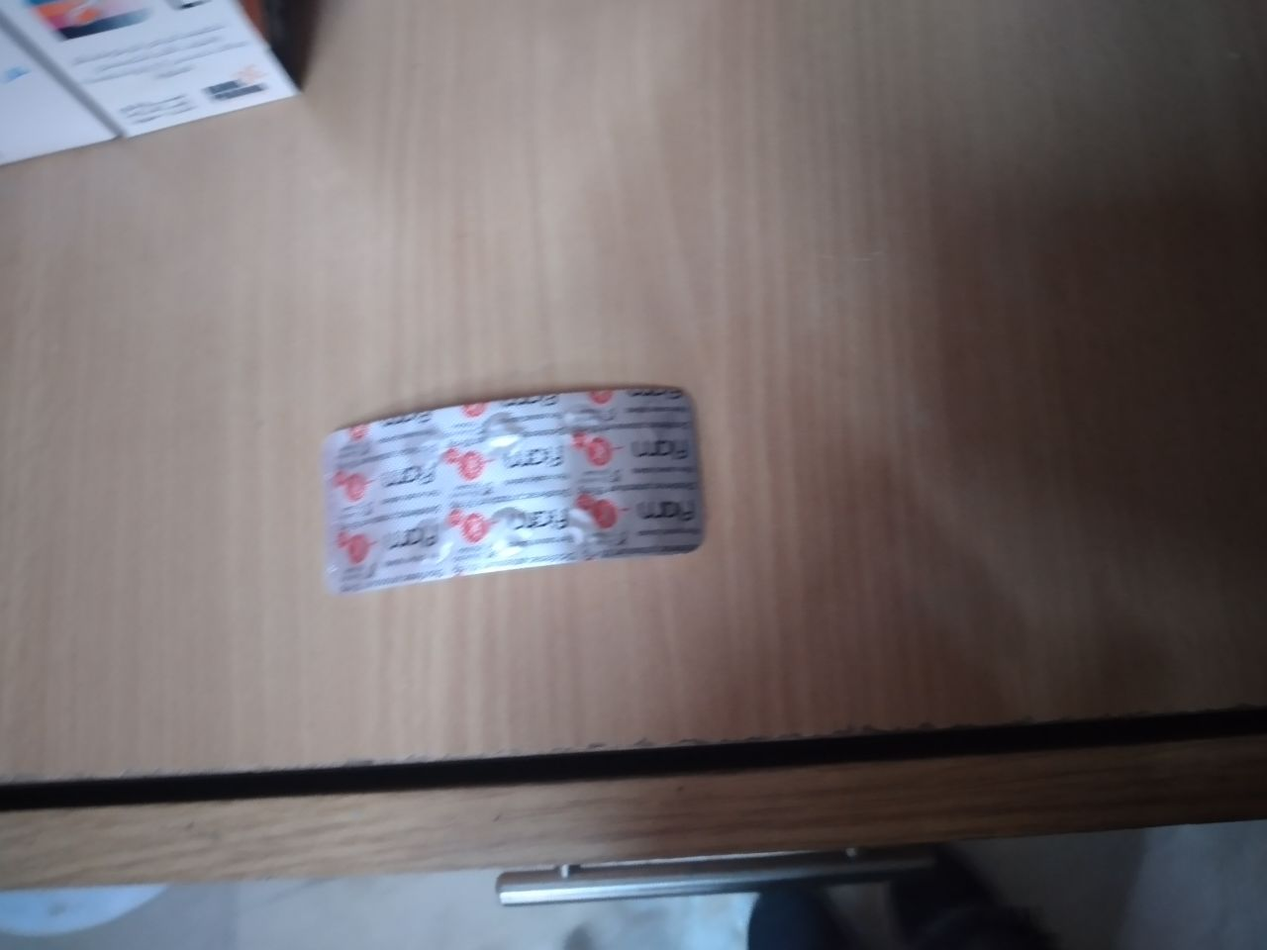Medicine: (312, 376, 710, 599)
